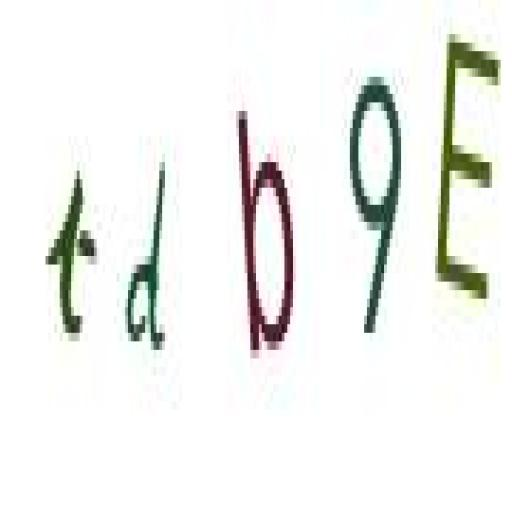9: (345, 56, 414, 346)
E: (434, 19, 504, 330)
d: (233, 94, 302, 376), (120, 137, 172, 379)
t: (43, 147, 103, 358)
